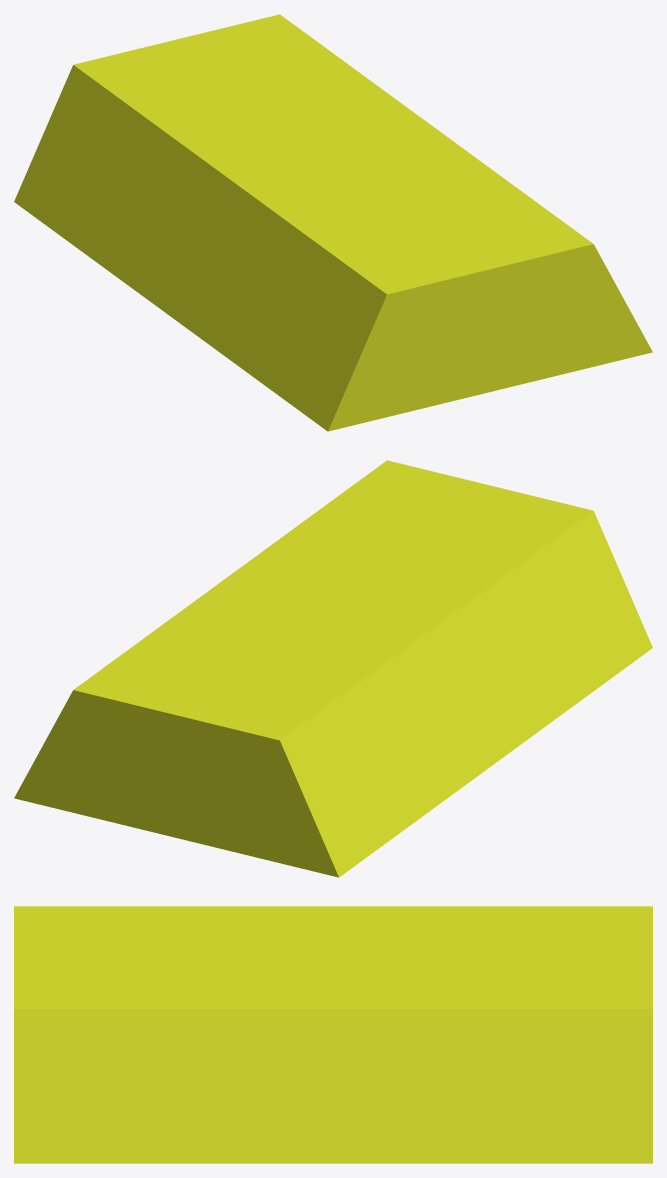
File: GoldIngot.fbx
3 views of the same model, one above another, from view 1: azimuth 30°, elevation 25°; view 2: azimuth 150°, elevation 25°; view 3: azimuth 270°, elevation 25° (orthographic).
Parts seen in each view (by area): view 1: Cube; view 2: Cube; view 3: Cube.
Part boxes in pixels (x1,y1,x2,y2): Cube: [14, 14, 652, 431]; Cube: [14, 460, 652, 877]; Cube: [14, 906, 652, 1163].
Size of the model in its own units: 120 by 43.15 by 200.
